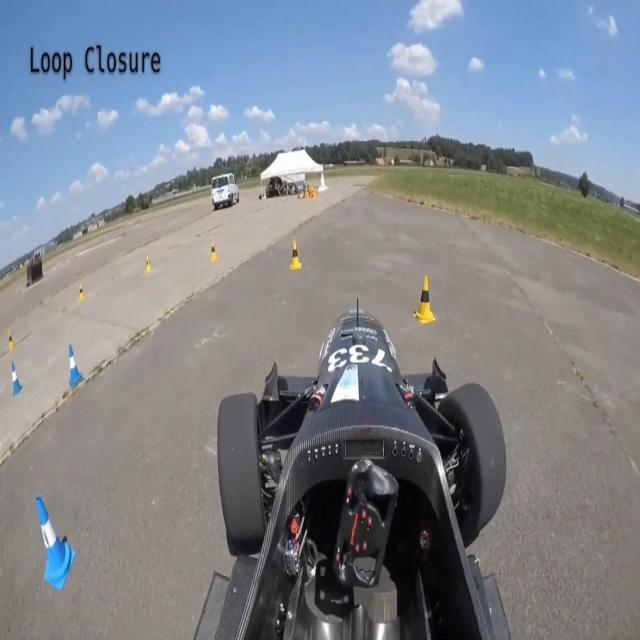blue_cone: (30, 493, 70, 579), (63, 347, 81, 389)
yellow_cone: (413, 272, 436, 327), (284, 237, 310, 278), (202, 235, 225, 267), (143, 250, 154, 274)
